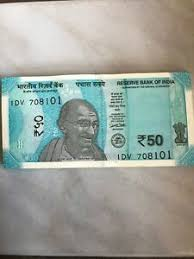fifty: (10, 95, 176, 151)
